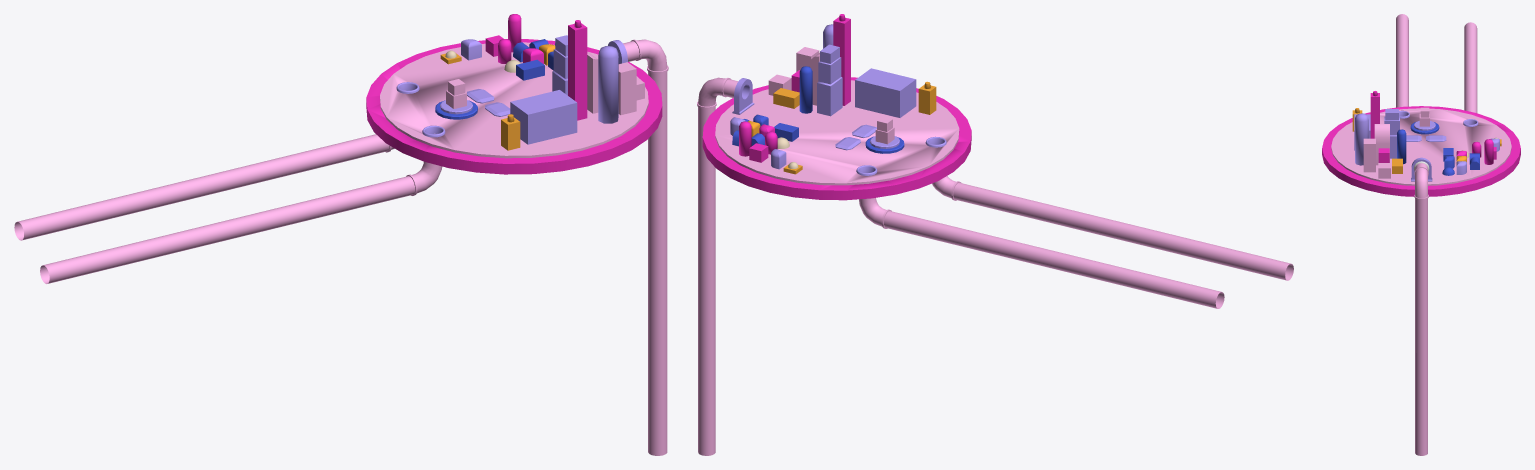
The model's file is platform_level1_a02.glb.
3 renders of one model, left to right at view 1: azimuth 30°, elevation 25°; view 2: azimuth 150°, elevation 25°; view 3: azimuth 270°, elevation 25°, orthographic. The views are drawn at different scales.
Parts seen in each view (by area): view 1: Cylinder.038, Cube.272, Cube.135, Cube.138, Cylinder.039, Cube.169, Cube.180, Cylinder.048, Cube.164, Cube.161, Cube.162; view 2: Cylinder.038, Cube.138, Cube.272, Cube.135, Cylinder.039, Cube.169, Cube.161, Cube.180, Cylinder.047, Cube.084; view 3: Cylinder.038, Cube.135, Cylinder.039, Cube.138, Cube.272, Cylinder.048, Cube.161, Cube.164, Cube.162, Cube.180, Cylinder.047, Cylinder.042 (+1 smaller).
Part boxes in pixels (<box>): Cylinder.038: <box>380,42,648,158</box>; Cube.272: <box>40,133,442,283</box>; Cube.135: <box>623,39,668,455</box>; Cube.138: <box>14,134,394,240</box>; Cylinder.039: <box>366,39,662,174</box>; Cube.169: <box>510,90,577,144</box>; Cube.180: <box>568,20,587,120</box>; Cylinder.048: <box>598,46,618,123</box>; Cube.164: <box>618,62,636,115</box>; Cube.161: <box>552,35,567,95</box>; Cube.162: <box>587,51,598,113</box>; Cylinder.038: <box>715,80,959,185</box>; Cube.138: <box>859,198,1224,308</box>; Cube.272: <box>932,176,1293,280</box>; Cube.135: <box>697,77,738,455</box>; Cylinder.039: <box>702,77,971,200</box>; Cube.169: <box>855,68,916,117</box>; Cube.161: <box>817,44,842,116</box>; Cube.180: <box>833,14,850,105</box>; Cylinder.047: <box>799,66,812,113</box>; Cube.084: <box>732,78,754,114</box>; Cylinder.038: <box>1331,108,1511,185</box>; Cube.135: <box>1414,163,1428,455</box>; Cylinder.039: <box>1322,106,1520,196</box>; Cube.138: <box>1464,22,1477,112</box>; Cube.272: <box>1396,14,1408,107</box>; Cylinder.048: <box>1355,113,1368,165</box>; Cube.161: <box>1384,109,1399,158</box>; Cube.164: <box>1363,138,1375,172</box>; Cube.162: <box>1374,124,1389,165</box>; Cube.180: <box>1370,91,1379,138</box>; Cylinder.047: <box>1397,129,1406,164</box>; Cylinder.042: <box>1484,139,1493,164</box>.
Size of the model in its own units: 98.75 by 71.73 by 39.86.
